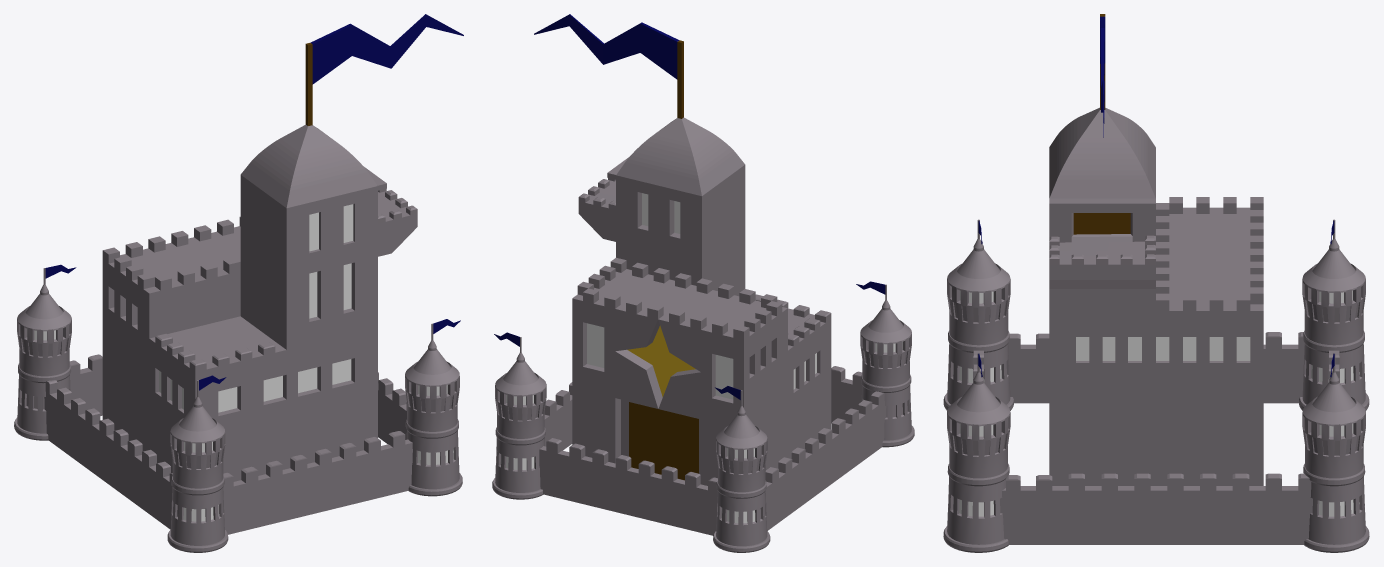
Rendered from Castle.fbx.
The picture shows the model from 3 angles, left to right: view 1: azimuth 30°, elevation 25°; view 2: azimuth 150°, elevation 25°; view 3: azimuth 270°, elevation 25°; orthographic projection. The views are drawn at different scales.
Parts seen in each view (by area): view 1: Cube.001, Cylinder.002, Cube, Cube.003, Cylinder.001; view 2: Cube.001, Cylinder.002, Cube, Cube.003, Cylinder.001; view 3: Cube.001, Cube.003, Cylinder.001, Cylinder.002.
Part boxes in pixels (bbox=[...]): Cube.001: bbox=[102, 14, 463, 481]; Cylinder.002: bbox=[14, 264, 228, 552]; Cube: bbox=[69, 354, 412, 534]; Cube.003: bbox=[44, 372, 406, 529]; Cylinder.001: bbox=[405, 319, 462, 496]; Cube.001: bbox=[534, 14, 831, 485]; Cylinder.002: bbox=[713, 281, 914, 552]; Cube: bbox=[539, 366, 862, 535]; Cube.003: bbox=[544, 382, 886, 530]; Cylinder.001: bbox=[492, 332, 546, 499]; Cube.001: bbox=[1049, 14, 1263, 485]; Cube.003: bbox=[1000, 332, 1312, 544]; Cylinder.001: bbox=[943, 353, 1369, 552]; Cylinder.002: bbox=[943, 219, 1369, 410].
Size of the model in its own units: 3990 by 4745 by 3670.
